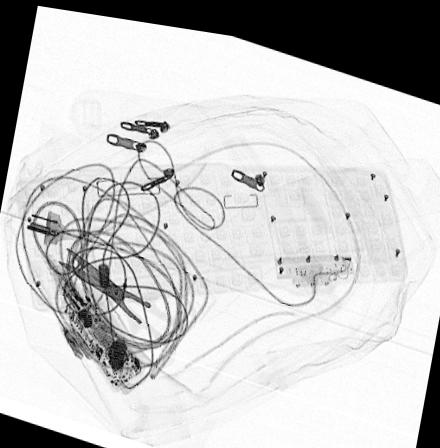Scissors: (56, 242, 197, 363)
